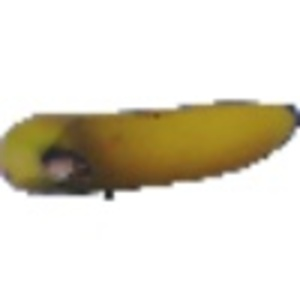banana: (6, 92, 299, 207)
